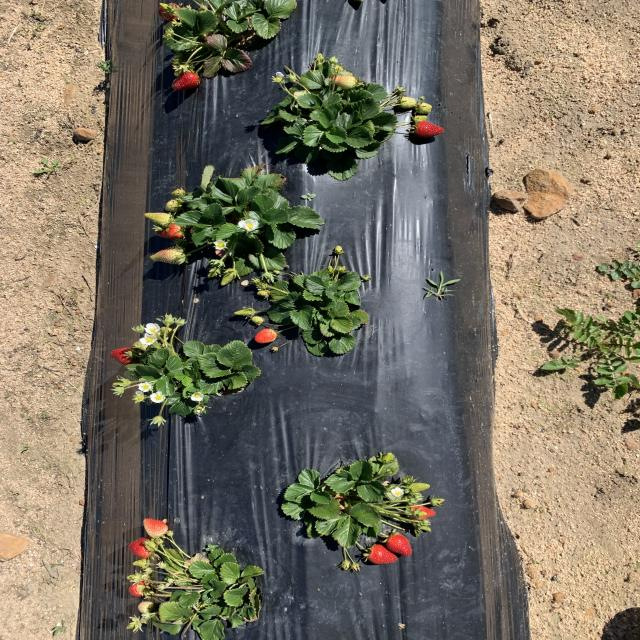unripe: (109, 347, 150, 366), (171, 68, 204, 90), (384, 534, 414, 557), (126, 537, 158, 558), (366, 545, 398, 565), (412, 119, 444, 139)
